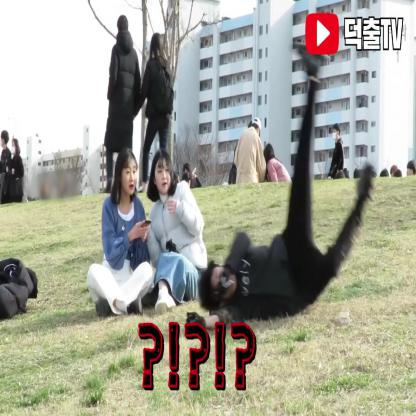Fall_Down: (186, 43, 376, 330)
